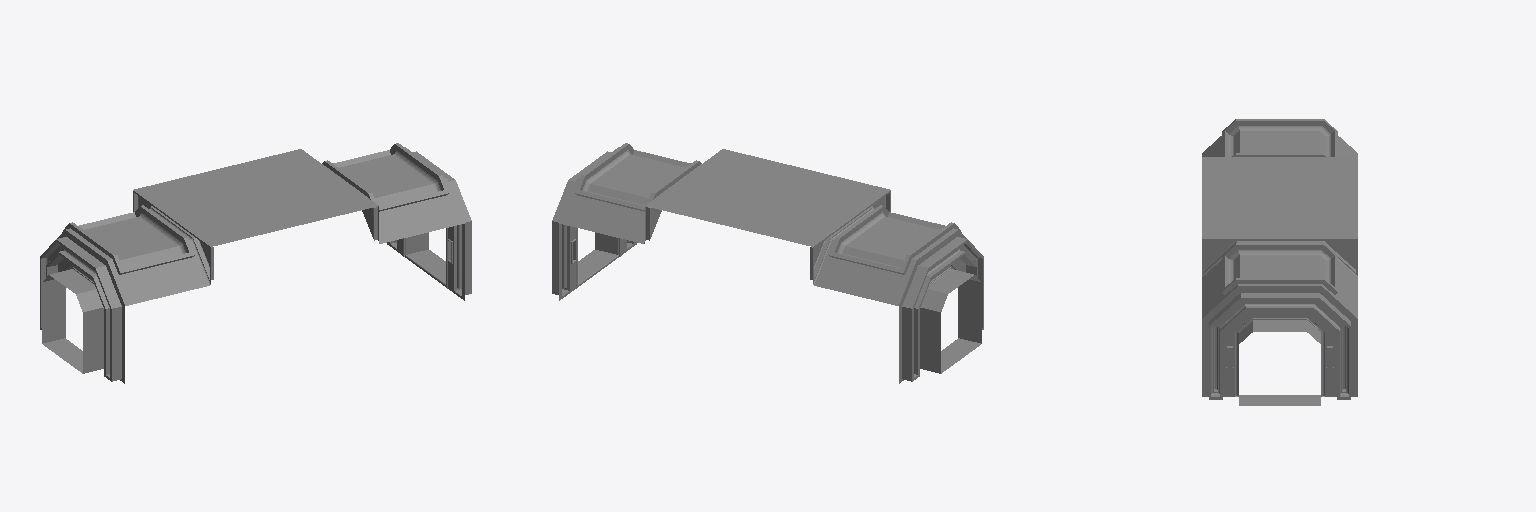
File: wall.obj
3 views of the same model, side by side, from view 1: azimuth 30°, elevation 25°; view 2: azimuth 150°, elevation 25°; view 3: azimuth 270°, elevation 25° (orthographic).
Parts seen in each view (by area): view 1: wall1; view 2: wall1; view 3: wall1.
Part boxes in pixels (left/top/right/bottom): wall1: left=40, top=143, right=471, bottom=383; wall1: left=552, top=143, right=983, bottom=383; wall1: left=1202, top=119, right=1357, bottom=405.
Bounding box in the file's own units: 1347 × 386 × 471.